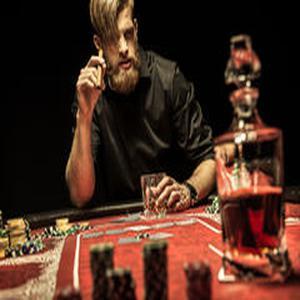cigarette: (95, 46, 103, 93)
